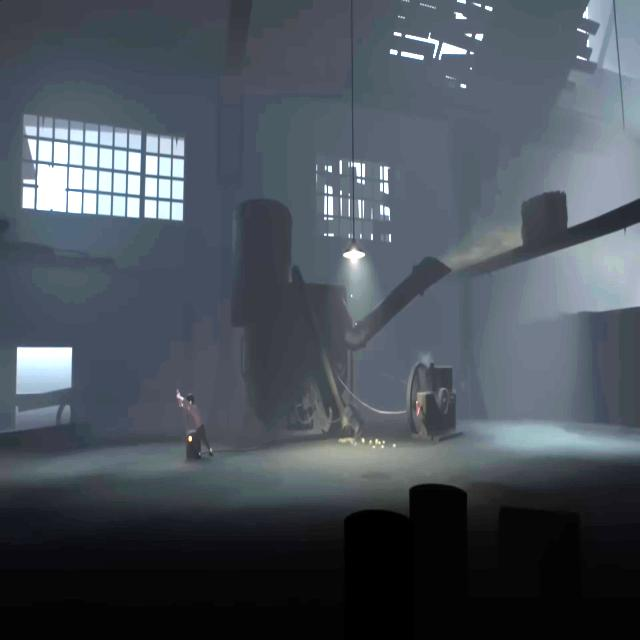boy: (180, 393, 212, 459)
